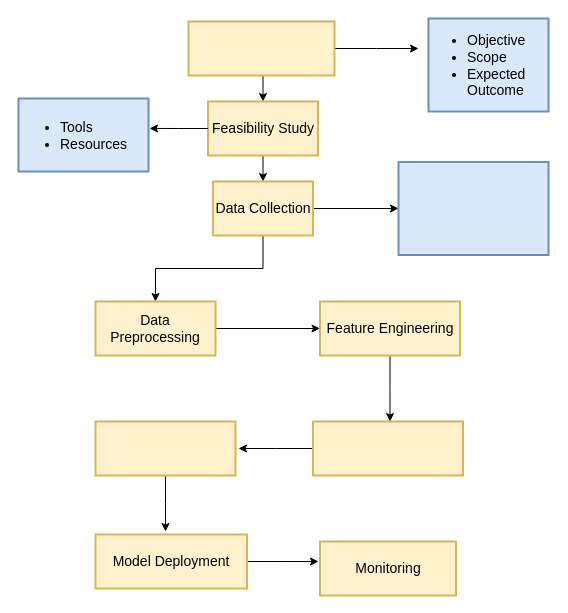
Some shapes in this 568 by 613 pixel diagram are drawn without their labels. The centre of each missing label's shape, as x and y in pixels:
"Model Development" goes at (x=388, y=448).
"Model Evaluation" goes at (x=165, y=448).
"Requirement Analysis" goes at (x=261, y=48).
"Youtube API Web Scraping" goes at (x=473, y=208).
